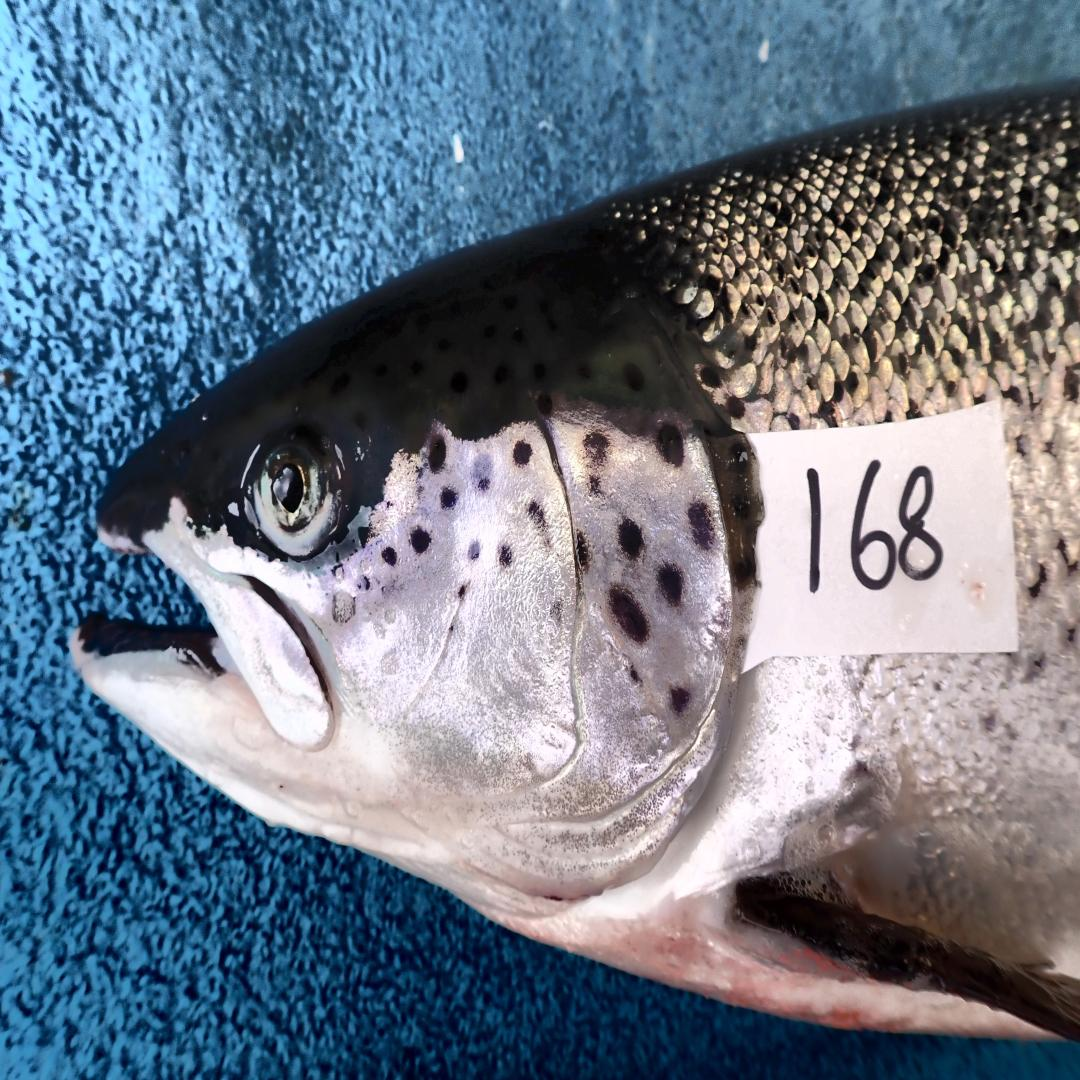spot: (610, 588, 650, 644), (688, 501, 715, 551), (656, 425, 683, 467), (658, 562, 683, 605), (618, 518, 643, 560), (582, 430, 610, 467), (472, 453, 494, 492), (548, 596, 572, 627), (428, 436, 447, 472), (380, 647, 401, 678), (409, 526, 432, 554), (576, 532, 591, 571), (513, 439, 532, 467), (527, 501, 546, 529), (671, 686, 690, 714), (586, 472, 603, 498), (498, 543, 513, 568), (441, 489, 458, 509), (382, 546, 399, 565), (538, 393, 552, 415), (354, 574, 371, 591), (413, 481, 426, 501), (468, 540, 481, 560), (629, 667, 643, 683), (413, 461, 424, 481), (384, 608, 397, 624), (458, 582, 468, 602), (447, 622, 454, 636)
